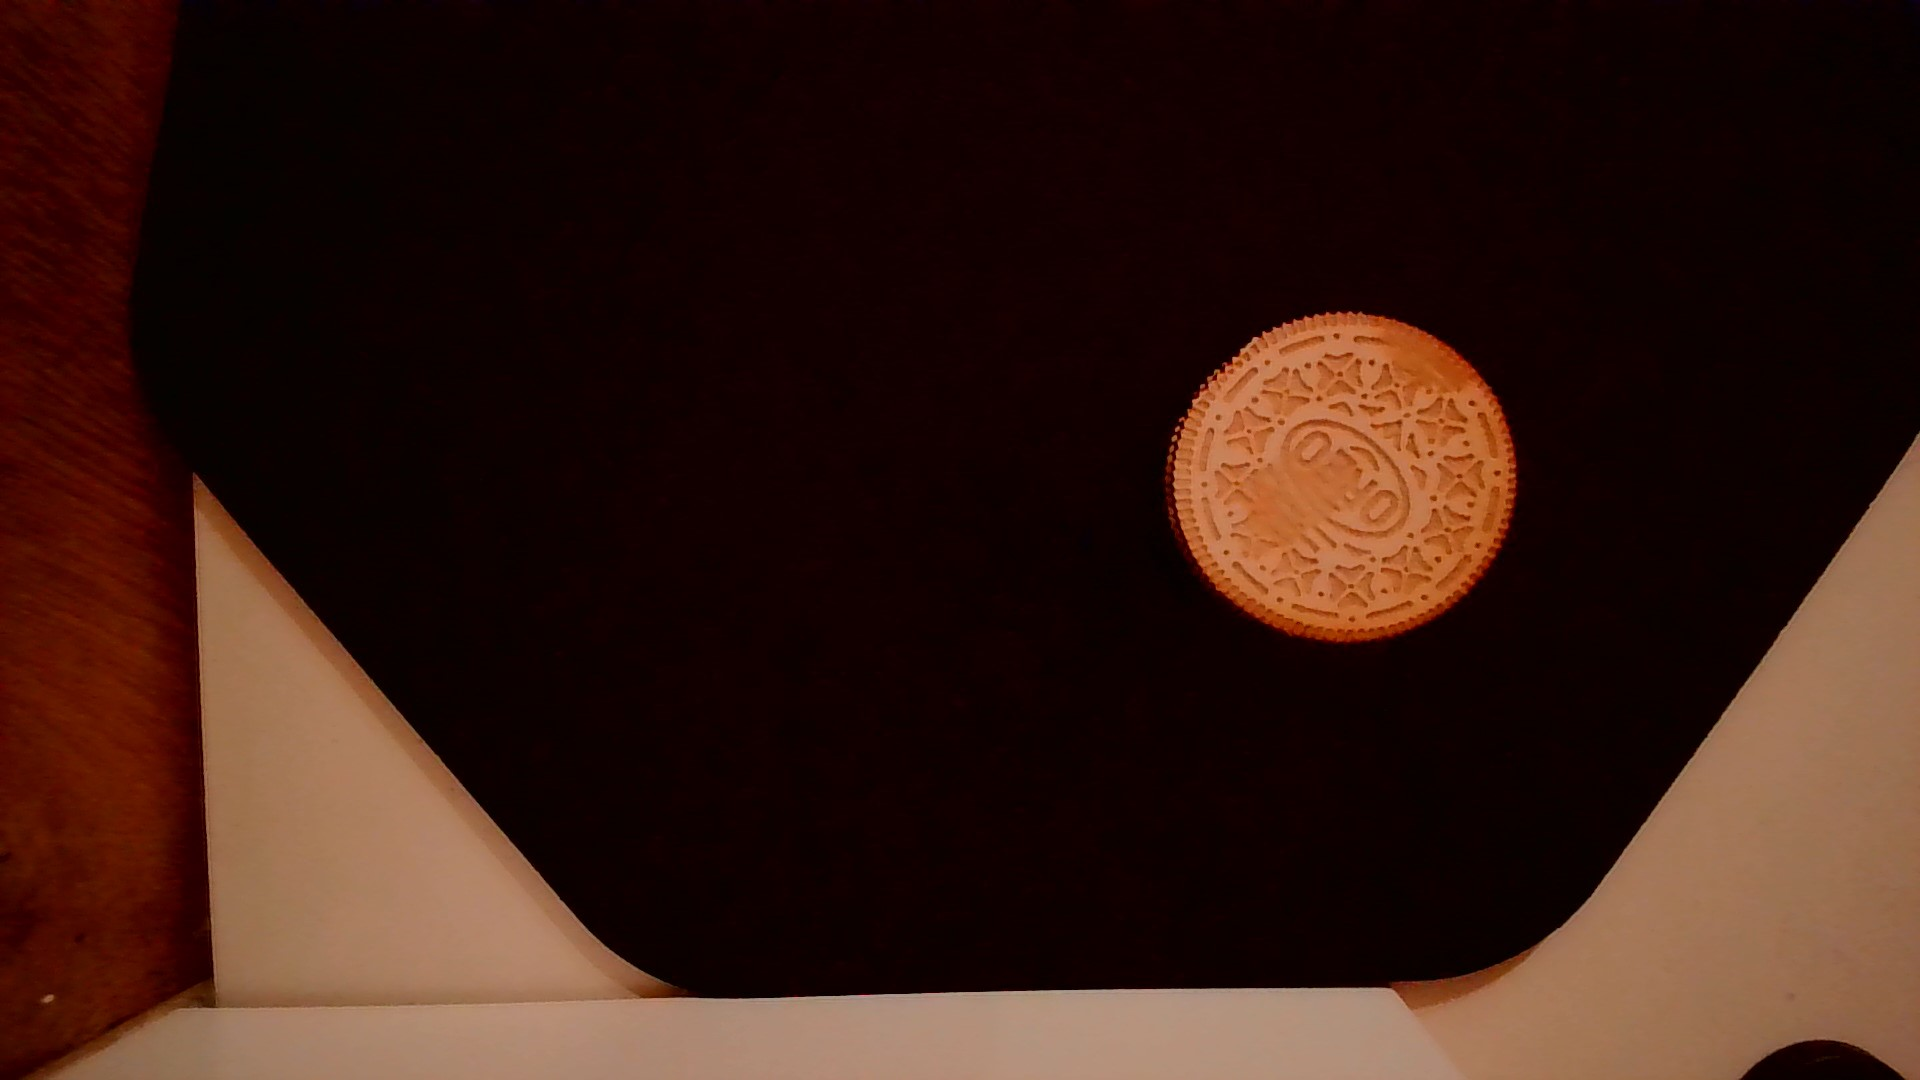Effacé: (1255, 442, 1337, 538), (1379, 319, 1474, 397)
Oréo: (1153, 305, 1523, 651)
